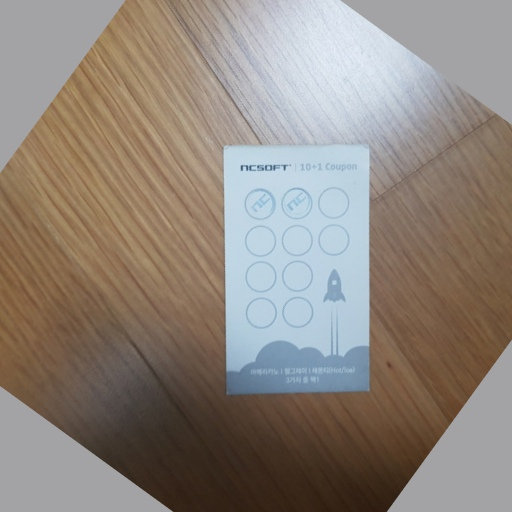Paper_2: (220, 140, 378, 403)
